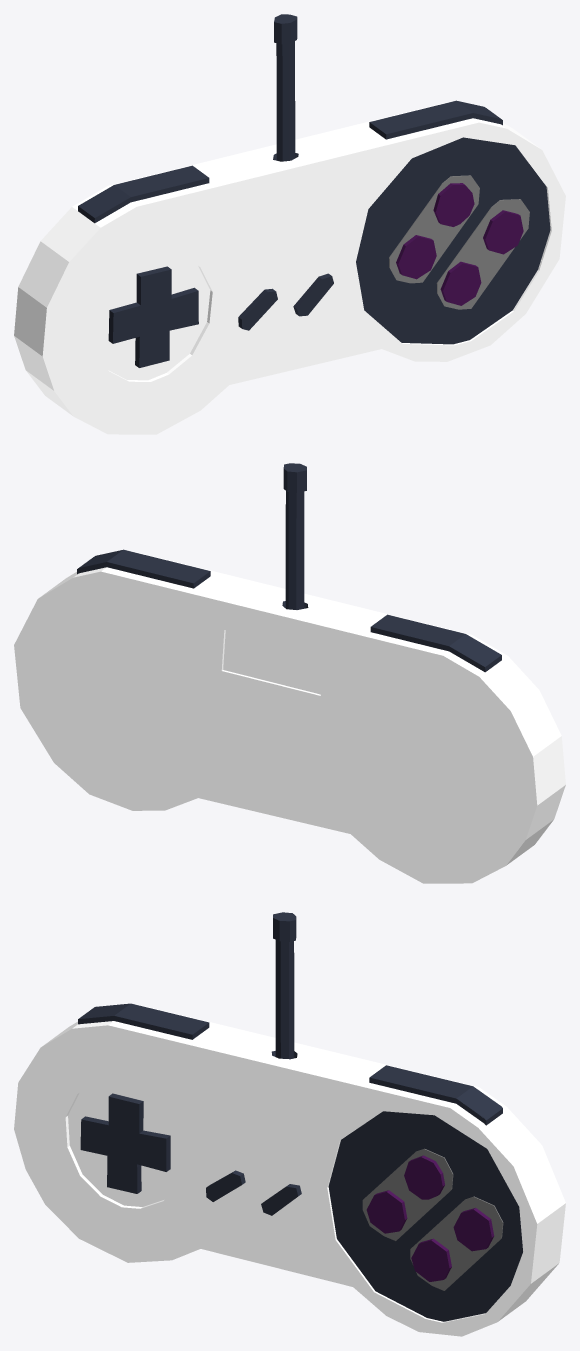
Rendered from controller2.glb.
3 renders of one model, top to bottom at view 1: azimuth 30°, elevation 25°; view 2: azimuth 150°, elevation 25°; view 3: azimuth 330°, elevation 25°, orthographic.
Visible parts, largest first — view 1: SNES; view 2: SNES; view 3: SNES.
Boxes of the visible parts, box(x1,y1,x2,y2) form: SNES: box(14, 14, 565, 434); SNES: box(14, 463, 565, 883); SNES: box(14, 912, 565, 1336).
Bounding box in the file's own units: 1.88 × 1.27 × 0.2013.
